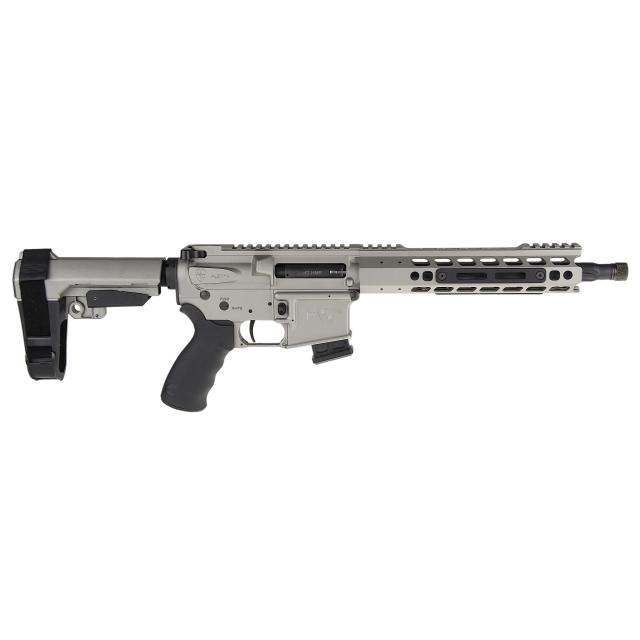Rifle: (11, 242, 631, 414)
